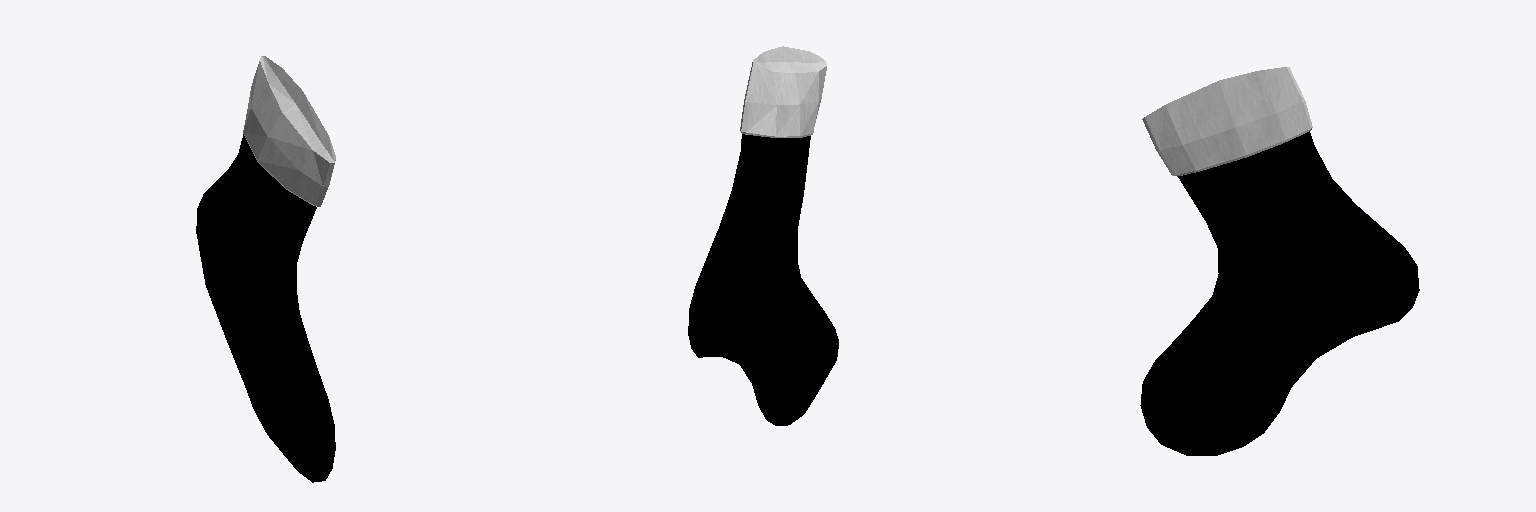
3 views of the same model, side by side, from view 1: azimuth 30°, elevation 25°; view 2: azimuth 150°, elevation 25°; view 3: azimuth 270°, elevation 25° (orthographic).
Visible parts, largest first — view 1: polySurface1; view 2: polySurface1; view 3: polySurface1.
Part boxes in pixels (x1,y1,x2,y2): polySurface1: (196, 56, 335, 482); polySurface1: (688, 46, 838, 425); polySurface1: (1140, 67, 1419, 455).
Bounding box in the file's own units: 0.1158 × 0.8368 × 0.5427.
Materials: 2 (1 with a texture image).